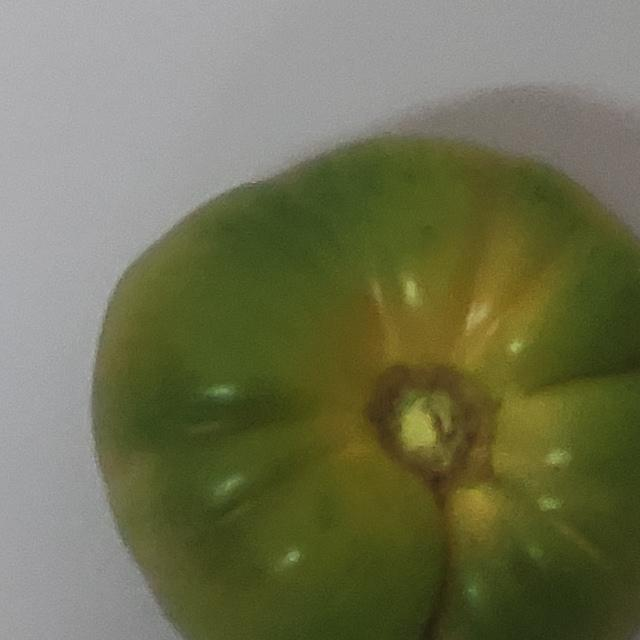tomato: (98, 114, 640, 640)
